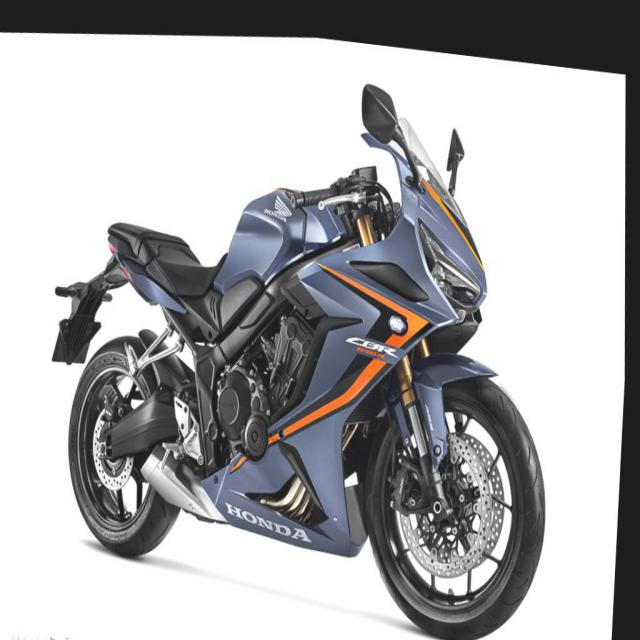CBR650R: (31, 24, 574, 639)
